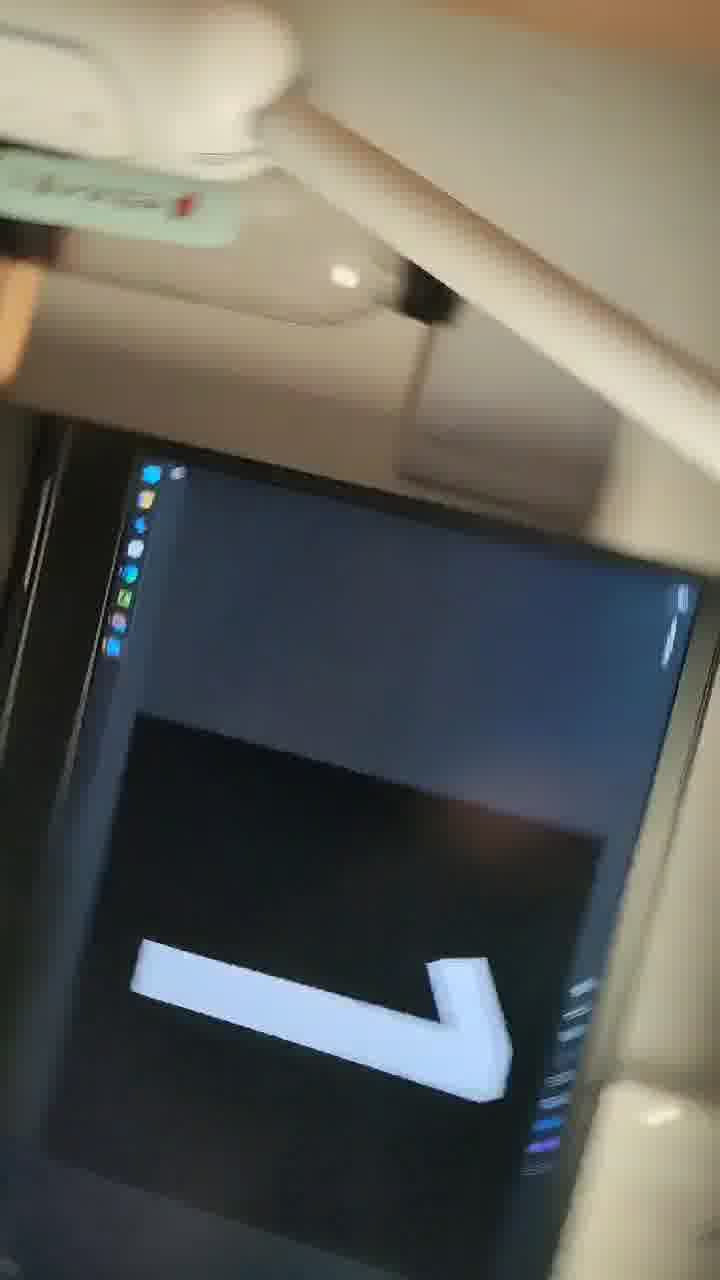one: (116, 802, 546, 1197)
